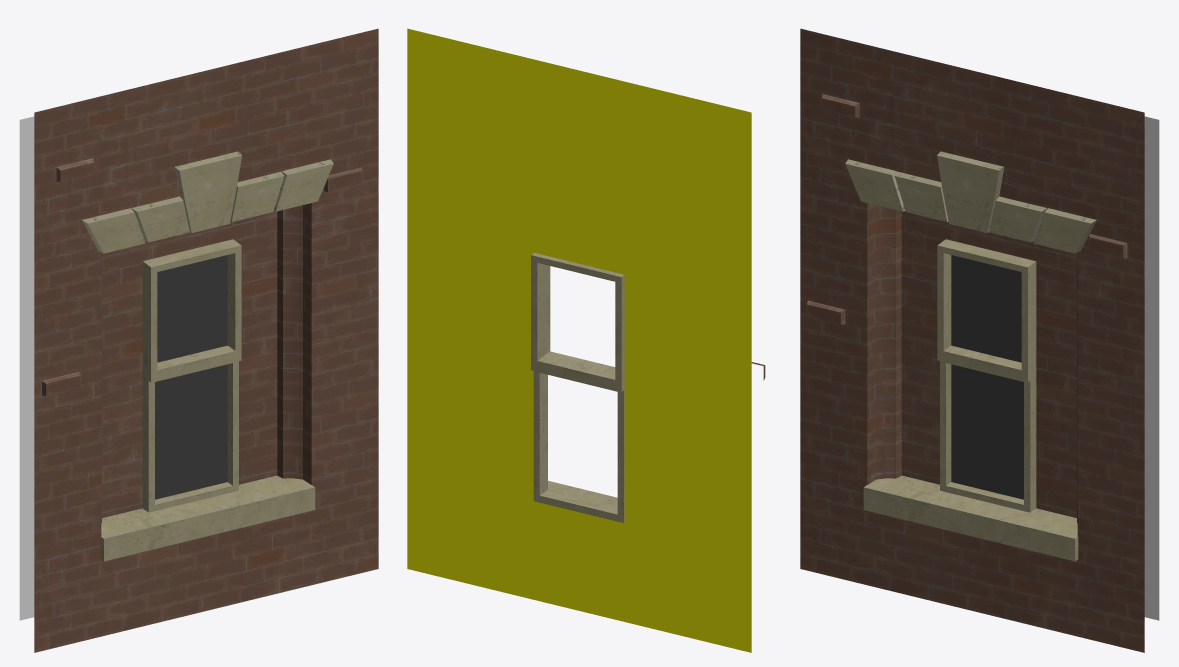
The model's file is brick-window-trim-single.glb.
3 views of the same model, side by side, from view 1: azimuth 30°, elevation 25°; view 2: azimuth 150°, elevation 25°; view 3: azimuth 330°, elevation 25° (orthographic).
Parts seen in each view (by area): view 1: Brick_Window_Trim_Single; view 2: Brick_Window_Trim_Single; view 3: Brick_Window_Trim_Single.
Boxes of the visible parts, x1,y1,x2,y2 form: Brick_Window_Trim_Single: [19, 28, 378, 652]; Brick_Window_Trim_Single: [407, 28, 765, 652]; Brick_Window_Trim_Single: [800, 28, 1159, 652].
Bounding box in the file's own units: 2 × 3 × 0.2769.
5 materials, 2 textured.
